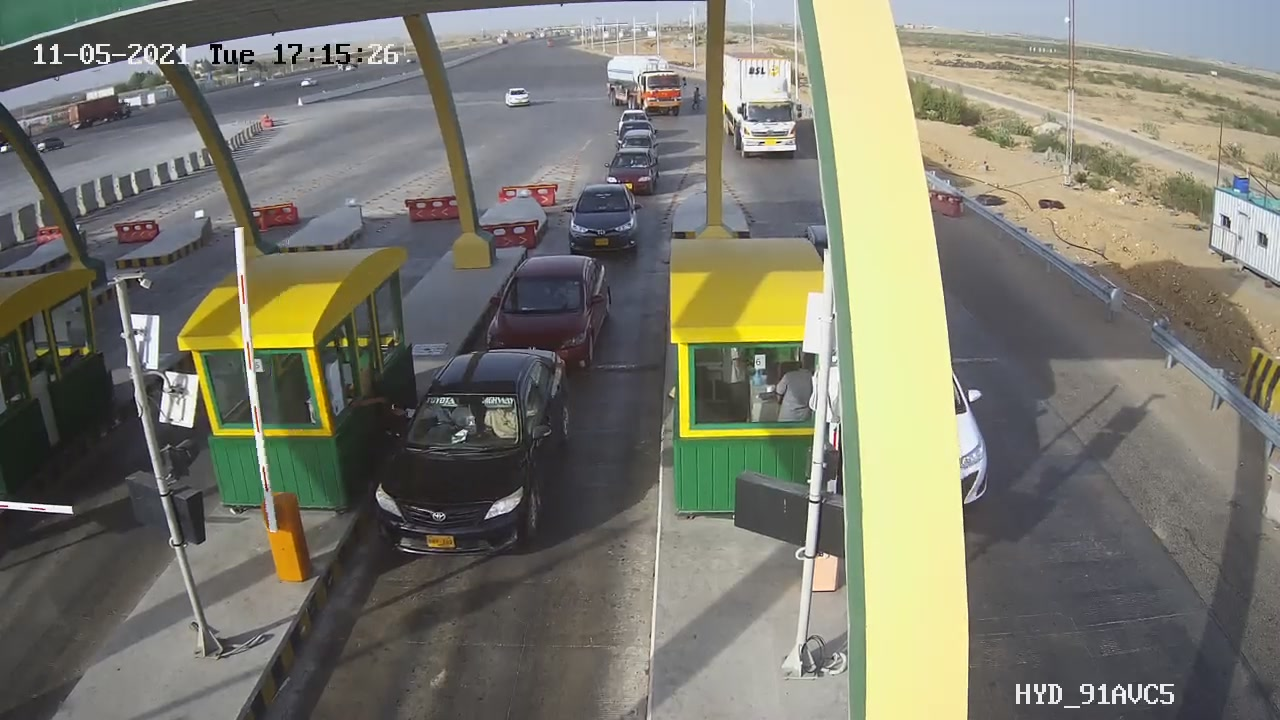F1: (353, 339, 592, 574), (473, 243, 622, 388), (553, 178, 653, 268)
